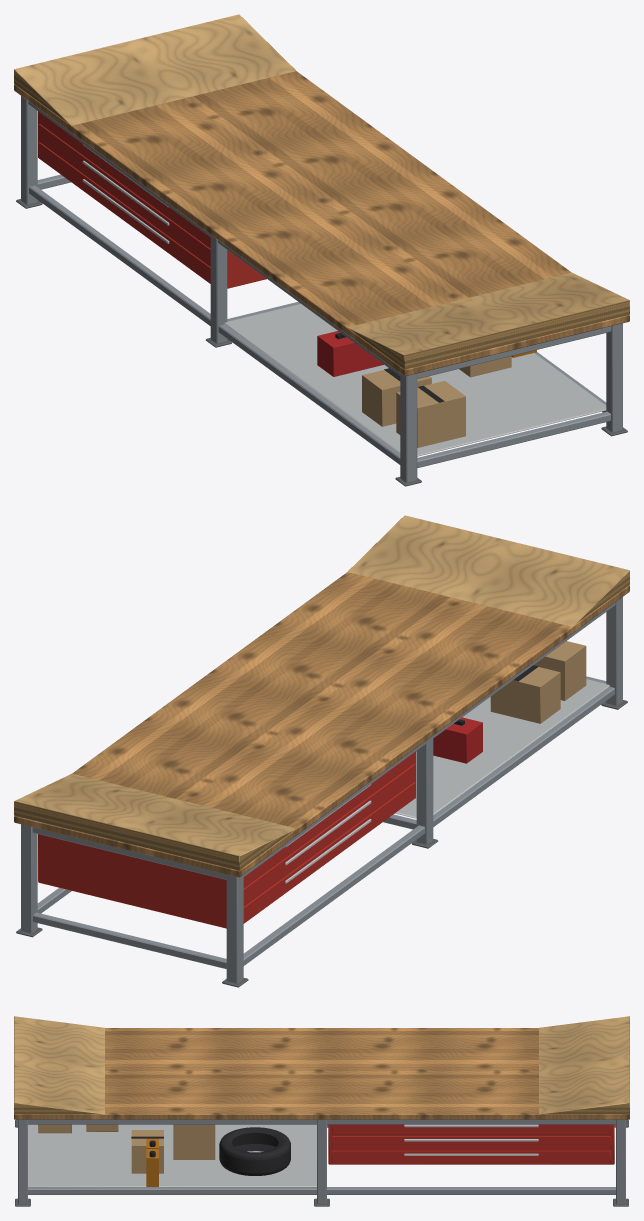
Rendered from workbench.glb.
3 views of the same model, one above another, from view 1: azimuth 30°, elevation 25°; view 2: azimuth 150°, elevation 25°; view 3: azimuth 270°, elevation 25° (orthographic). The views are drawn at different scales.
Parts seen in each view (by area): view 1: workbench; view 2: workbench; view 3: workbench.
Boxes of the visible parts, x1=… form: workbench: x1=14, y1=14, x2=629, y2=486; workbench: x1=14, y1=515, x2=629, y2=987; workbench: x1=14, y1=1016, x2=629, y2=1206.
Bounding box in the file's own units: 8 × 4.5 × 24.
Materials: 14 (3 with a texture image).
